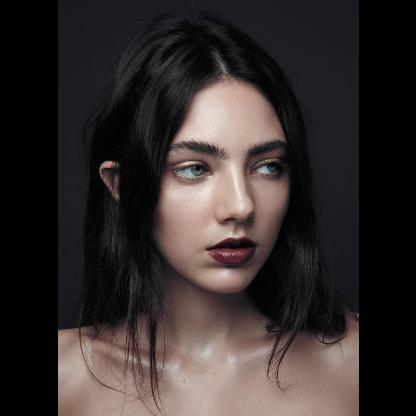Female: (100, 77, 290, 292)
